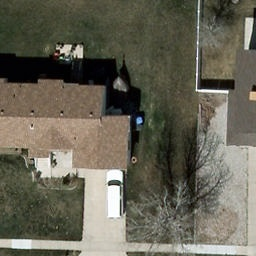car: (108, 169, 127, 217)
